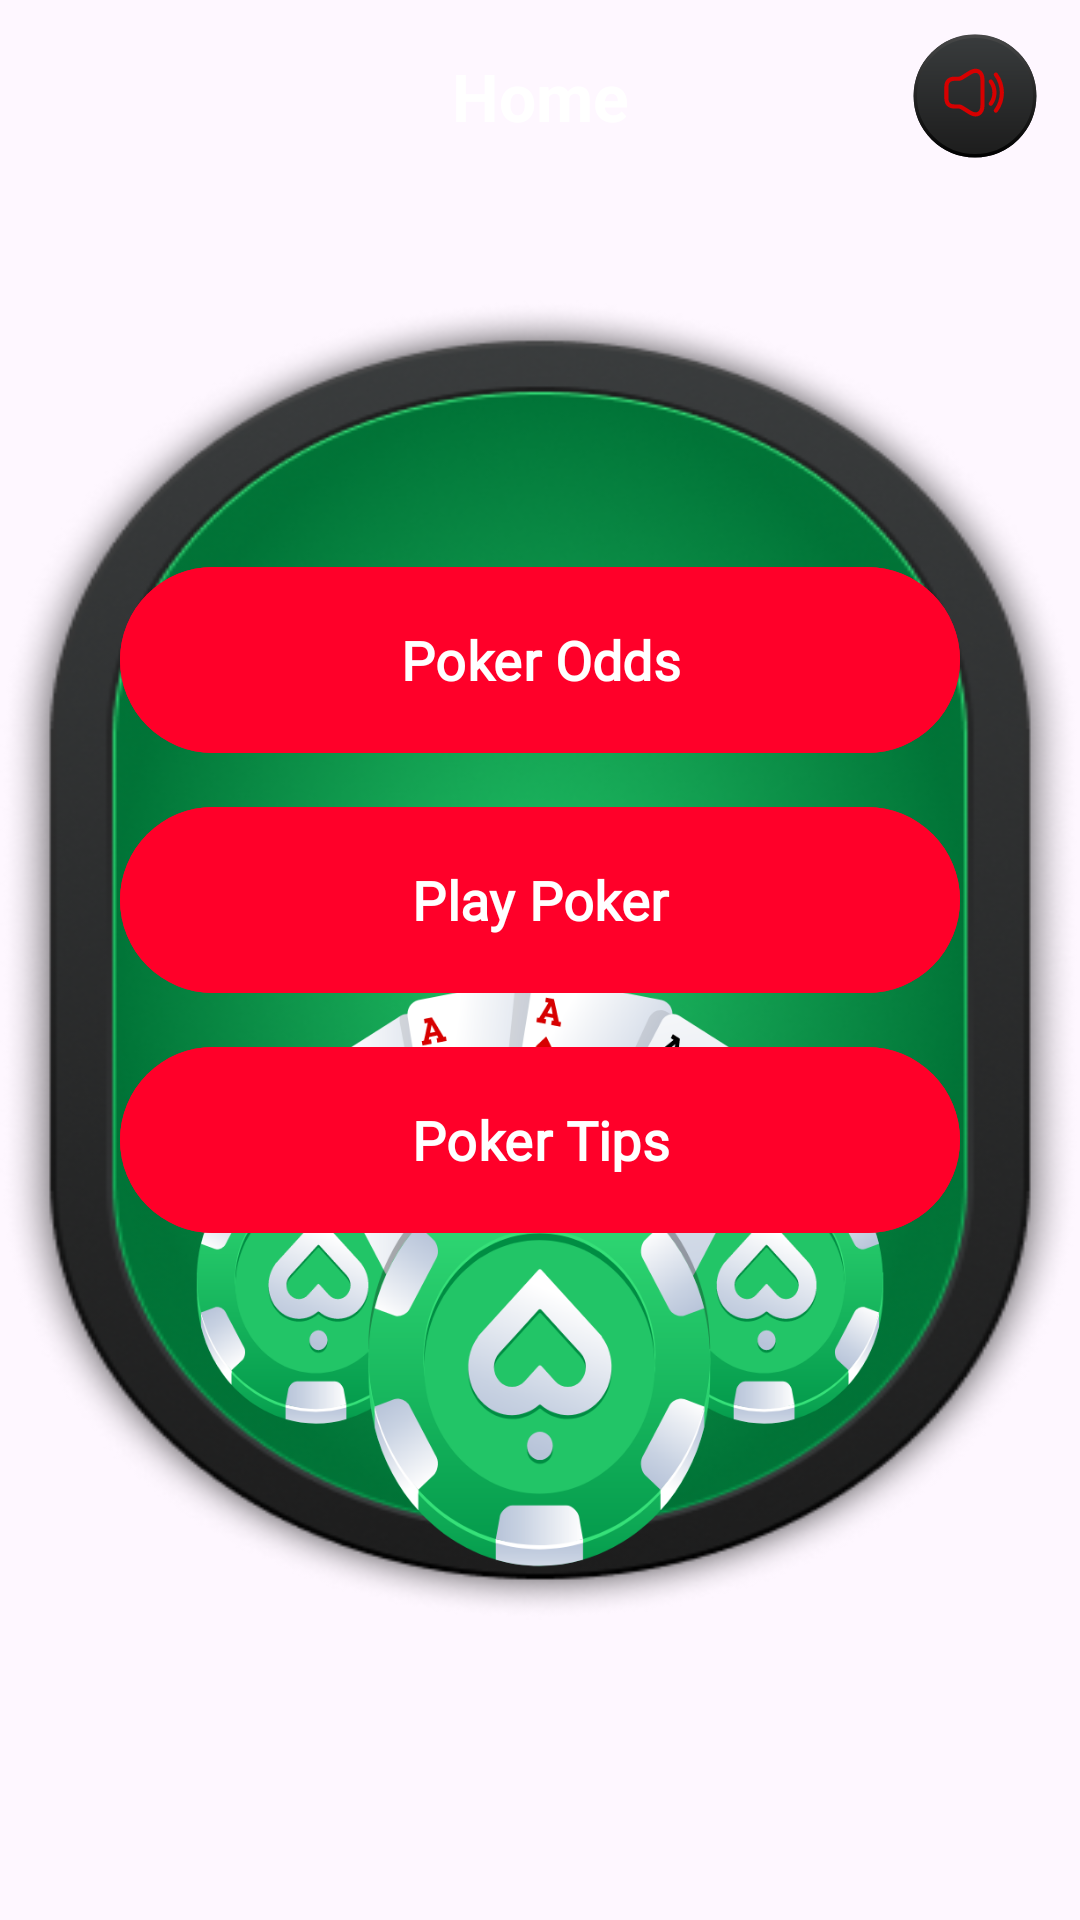

Icons on this 1080 × 1920 Android screen, each with the point to tap as (x,y):
music: (975,96)
